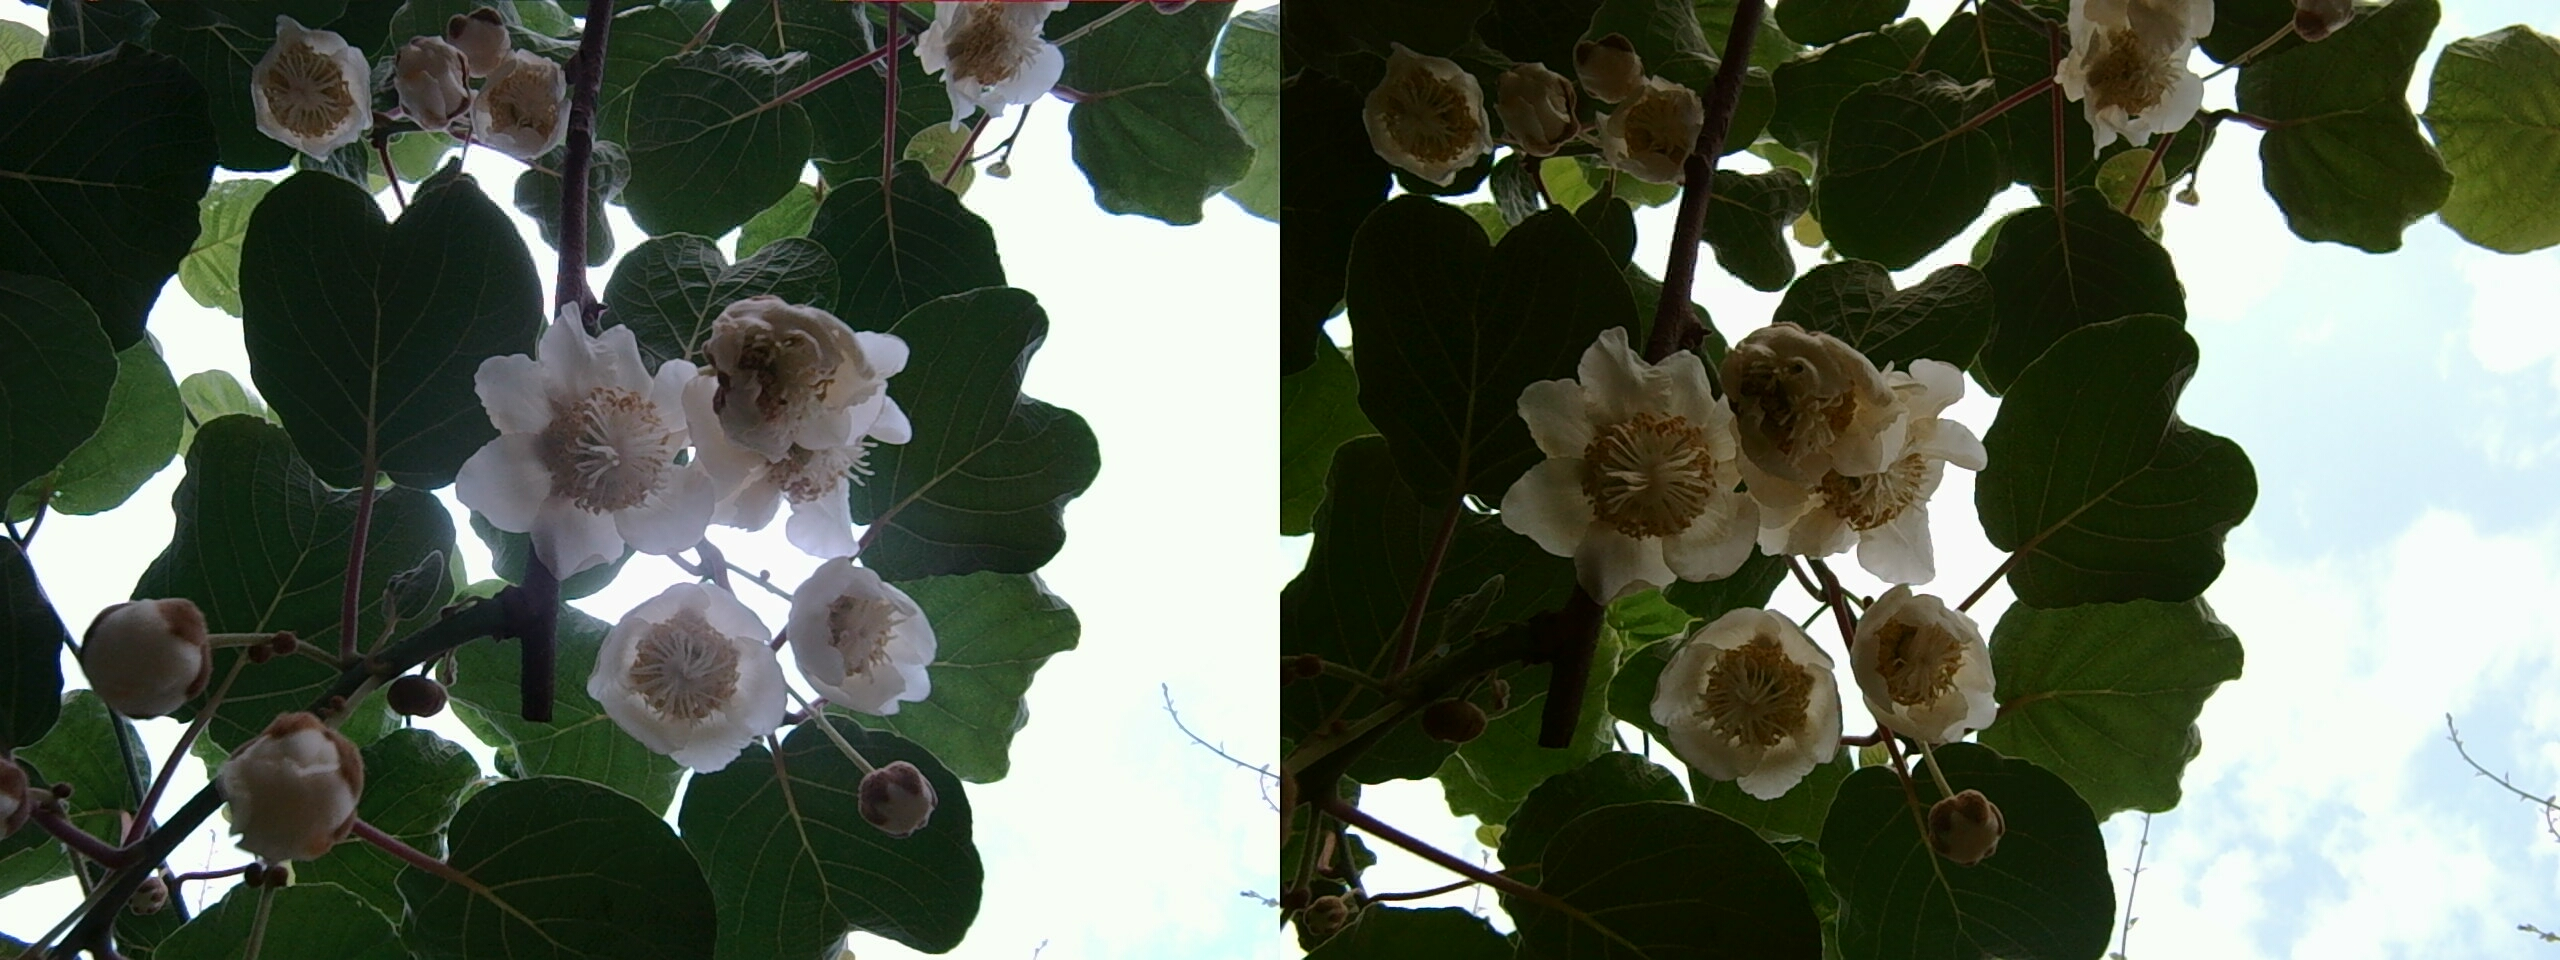flower: (1500, 322, 1762, 593), (454, 313, 718, 573), (1724, 325, 1979, 567), (686, 281, 913, 526), (1636, 594, 1853, 789), (588, 571, 790, 766), (772, 553, 940, 713), (1845, 584, 2002, 748), (2056, 2, 2220, 149), (387, 24, 562, 149), (248, 15, 384, 158), (1363, 46, 1500, 184), (922, 5, 1063, 116)
